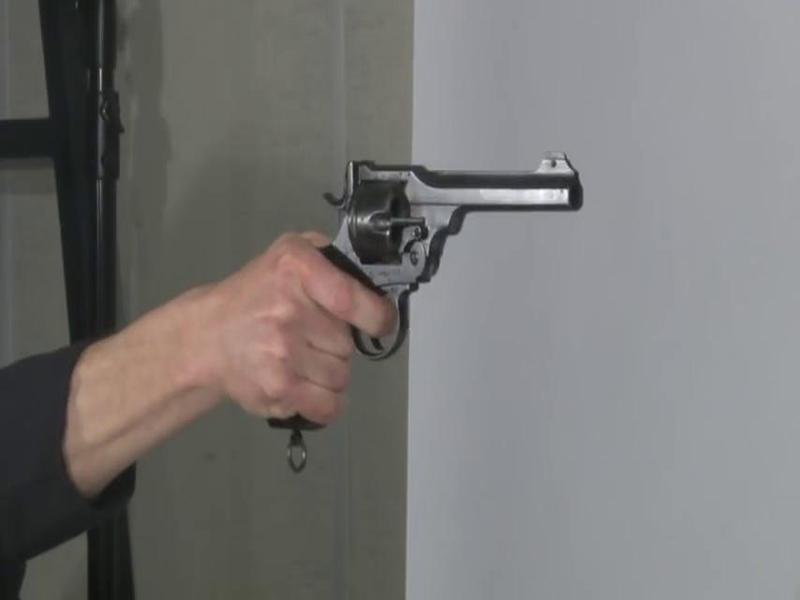Revolver: (313, 145, 593, 370)
